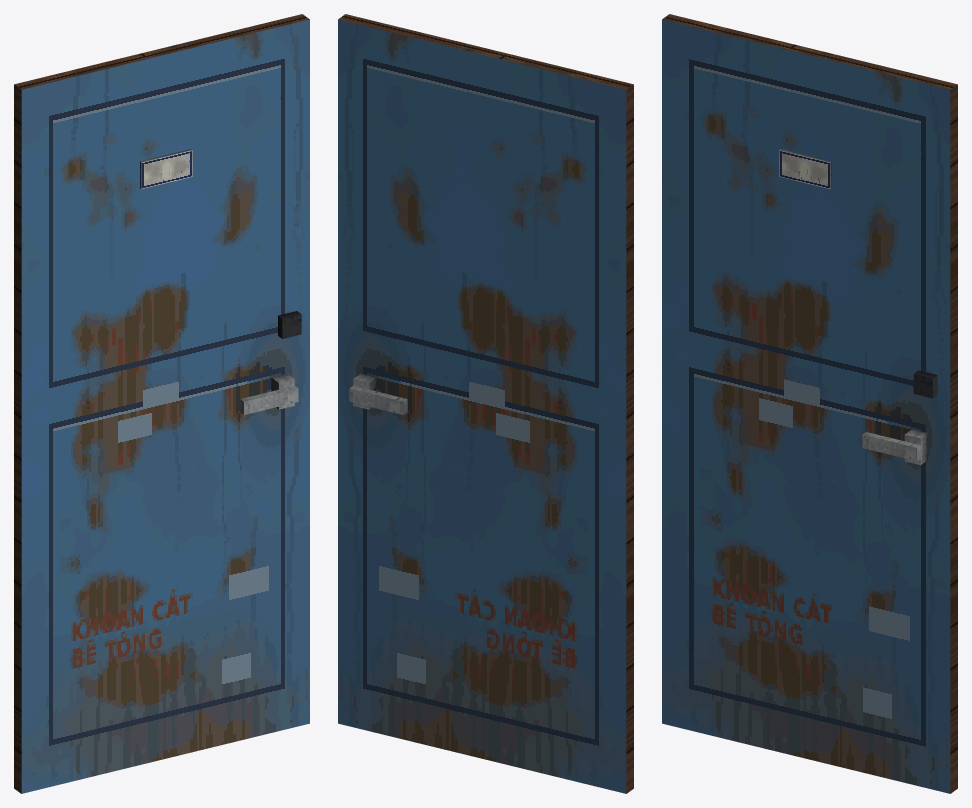
The model's file is door_dorm.glb.
3 renders of one model, left to right at view 1: azimuth 30°, elevation 25°; view 2: azimuth 150°, elevation 25°; view 3: azimuth 330°, elevation 25°, orthographic.
Visible parts, largest first — view 1: door_dorm_door_dorm, door_dorm_wood_dark, number_plate, door_dorm_metal_alu, door_dorm_metal_dark; view 2: door_dorm_door_dorm, door_dorm_wood_dark, door_dorm_metal_alu; view 3: door_dorm_door_dorm, door_dorm_wood_dark, number_plate, door_dorm_metal_alu, door_dorm_metal_dark.
Part boxes in pixels (x1,y1,x2,y2): door_dorm_door_dorm: (21,19,309,793); door_dorm_wood_dark: (14,14,309,793); number_plate: (140,149,192,189); door_dorm_metal_alu: (240,373,298,414); door_dorm_metal_dark: (278,311,301,338); door_dorm_door_dorm: (338,19,626,793); door_dorm_wood_dark: (338,14,633,793); door_dorm_metal_alu: (349,373,407,414); door_dorm_door_dorm: (662,19,950,793); door_dorm_wood_dark: (662,14,957,793); number_plate: (779,149,831,189); door_dorm_metal_alu: (862,429,927,465); door_dorm_metal_dark: (913,370,937,398).
Size of what is drawn, in the model's own units: 0.9 by 2.1 by 0.16.
Materials: 5 (5 with a texture image).
